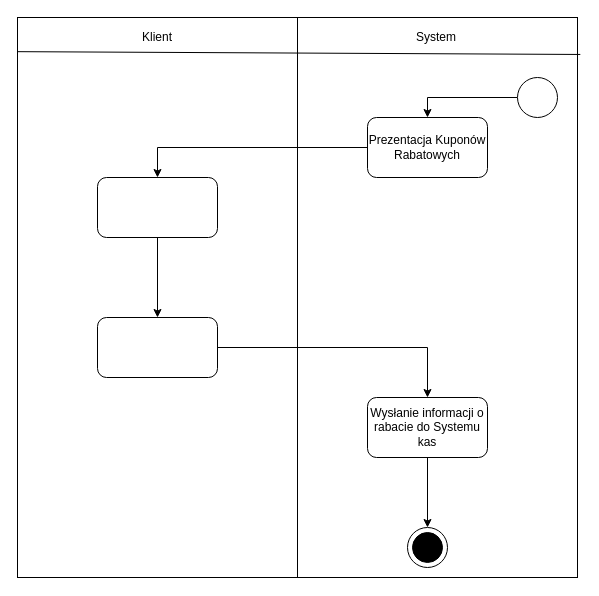
The diagram is 599 pixels wide and 596 high, and some of its shapes have lost their labels. Each missing label, with the centre of its shape:
Aktywacja kuponu w Aplikacji: point 157,207
Zakup produktu z aktywnym Kuponem: point 157,347
